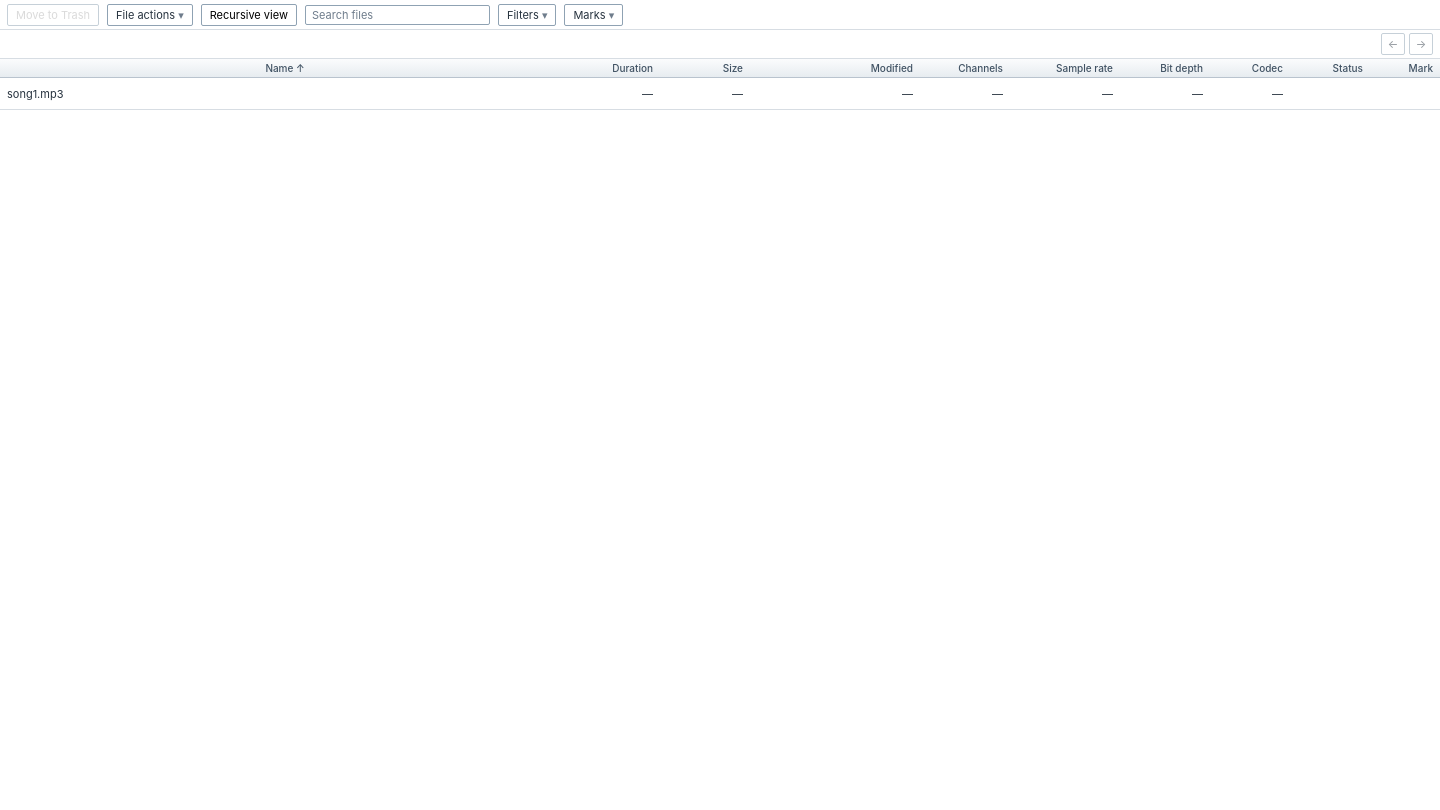
FileList — move to Trash › keeps row and shows error after partial failure
This screenshot has width=1440, height=810.
Click the text "song1.mp3" at (35, 94), box [7,86,64,100]
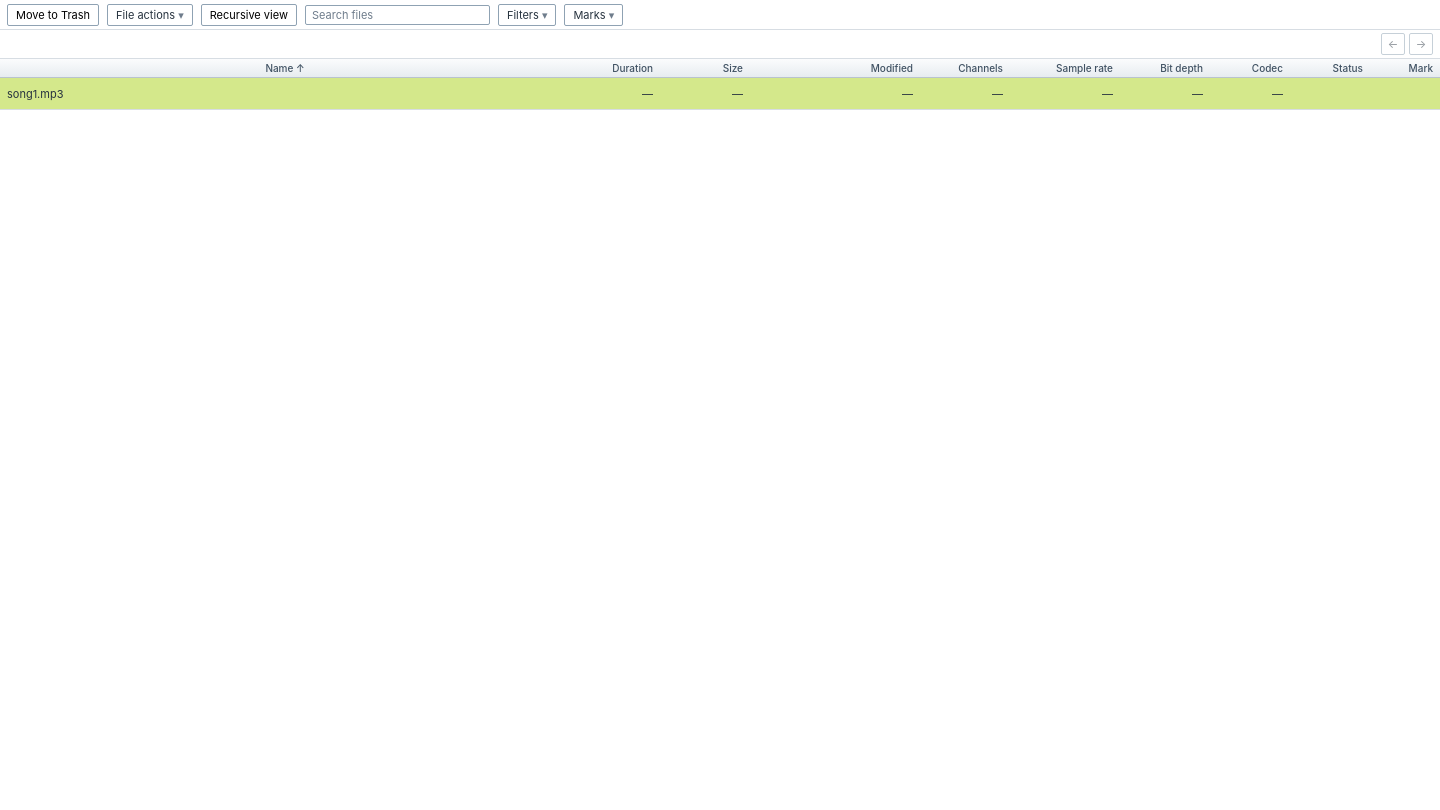
Click the button "Move to Trash" at (53, 14), box [7,4,99,26]
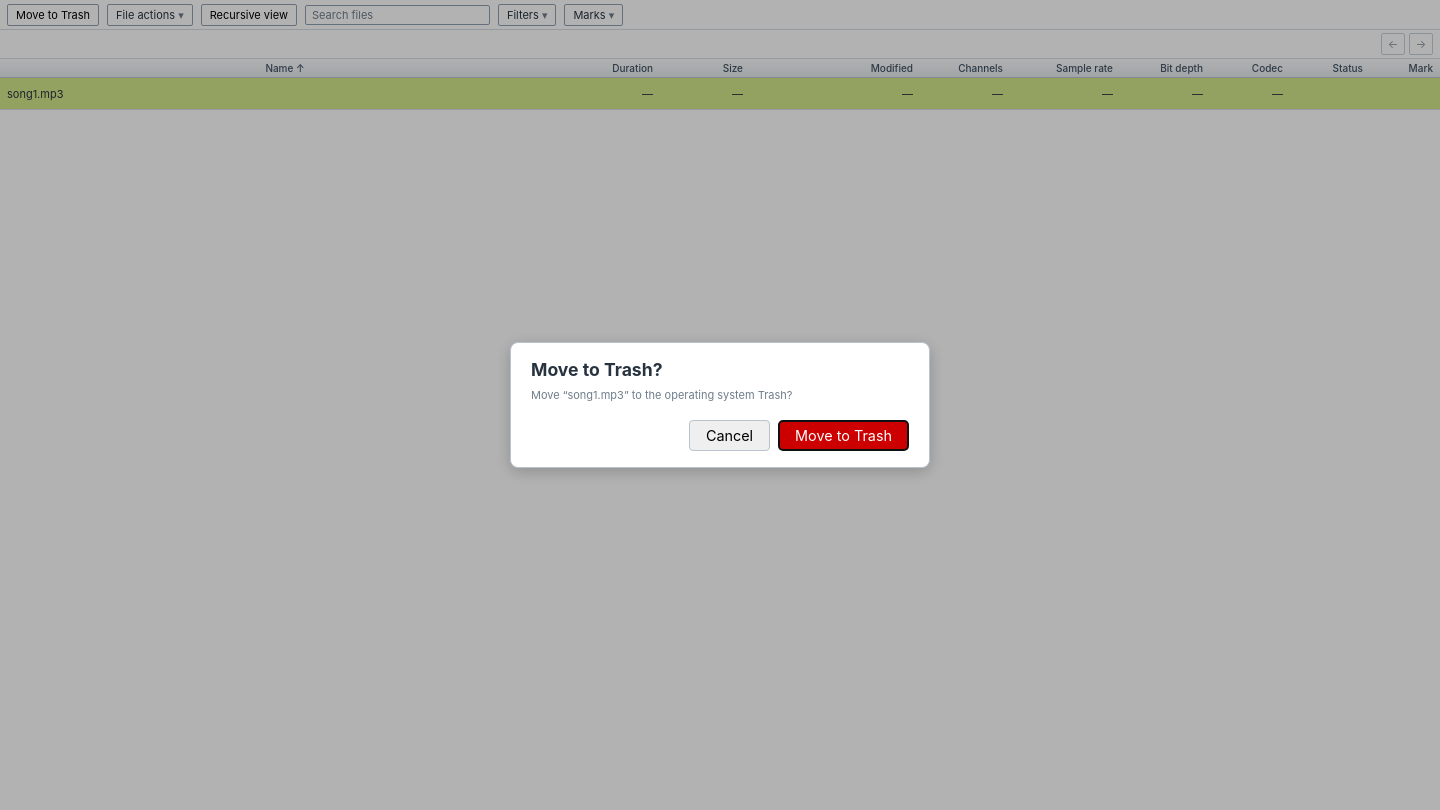
Click the button with class "confirm-dialog-button--confirm" at (844, 435), box [778,420,909,451]
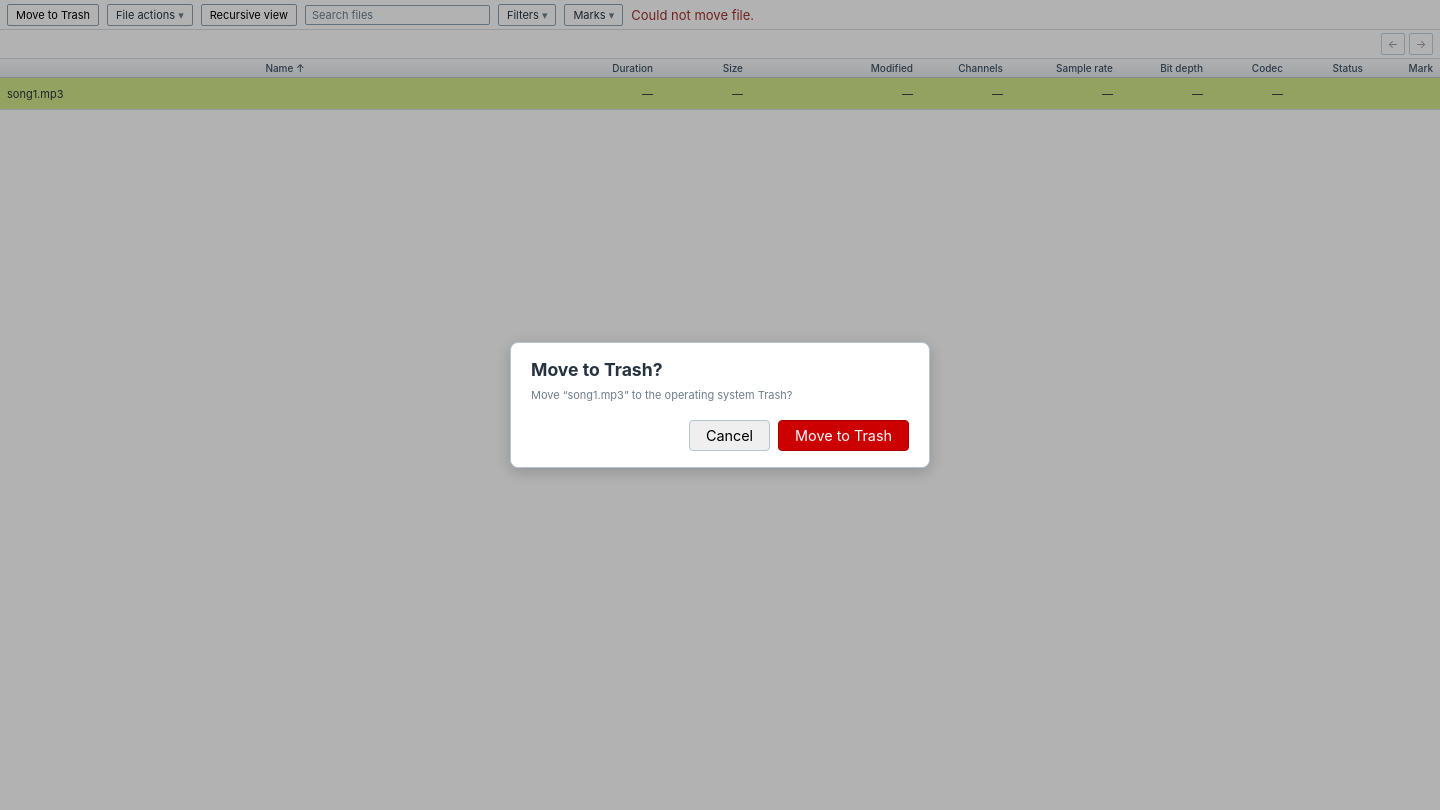
Expected: the text "song1.mp3" is shown, [7,86,64,100]
Now the message reads "Could not move file.", box [631,6,754,22]
